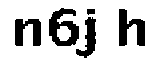6: (47, 6, 80, 48)
h: (113, 6, 151, 52)
j: (78, 6, 101, 60)
n: (12, 16, 43, 51)
